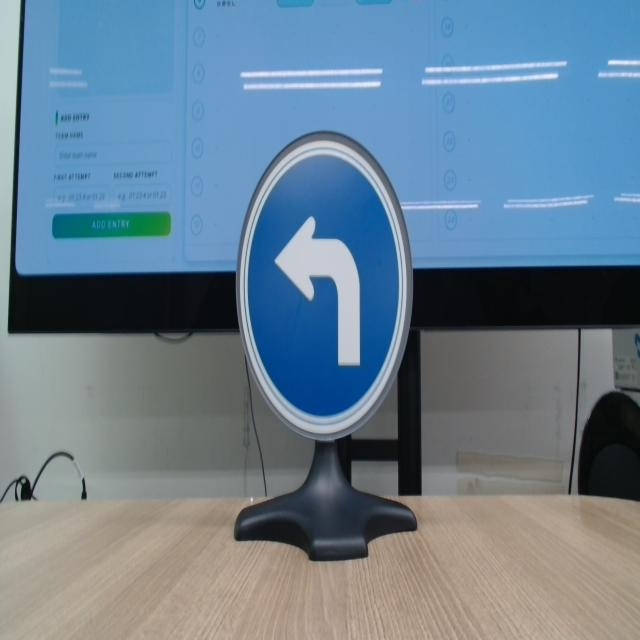left_direction: (223, 124, 424, 447)
